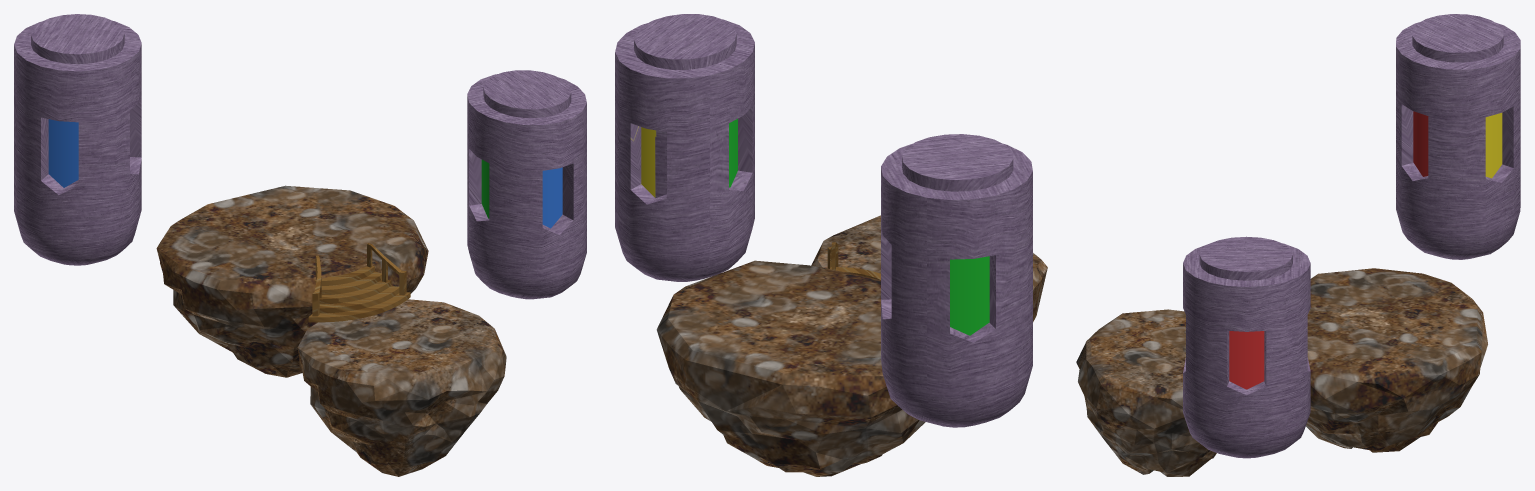
The model's file is world_0.gltf.
3 renders of one model, left to right at view 1: azimuth 30°, elevation 25°; view 2: azimuth 150°, elevation 25°; view 3: azimuth 270°, elevation 25°, orthographic. The views are drawn at different scales.
Visible parts, largest first — view 1: polySurface2, pCylinder4, polySurface1, pCylinder5, pPlane1; view 2: pCylinder4, polySurface2, pCylinder5, polySurface1, pPlane1; view 3: pCylinder4, polySurface2, pCylinder5, polySurface1.
Part boxes in pixels (<box>): polySurface2: <box>156,185,428,377</box>; pCylinder4: <box>14,14,141,265</box>; polySurface1: <box>297,299,506,476</box>; pCylinder5: <box>467,70,586,299</box>; pPlane1: <box>308,243,410,322</box>; pCylinder4: <box>881,134,1032,427</box>; polySurface2: <box>656,260,925,476</box>; pCylinder5: <box>615,14,754,281</box>; polySurface1: <box>811,215,1047,321</box>; pPlane1: <box>827,242,880,279</box>; pCylinder4: <box>1396,14,1520,259</box>; polySurface2: <box>1306,268,1487,452</box>; pCylinder5: <box>1183,236,1310,458</box>; polySurface1: <box>1076,309,1216,476</box>.
Size of the model in its own units: 21.97 by 17.08 by 19.36.
3 materials, 3 textured.
